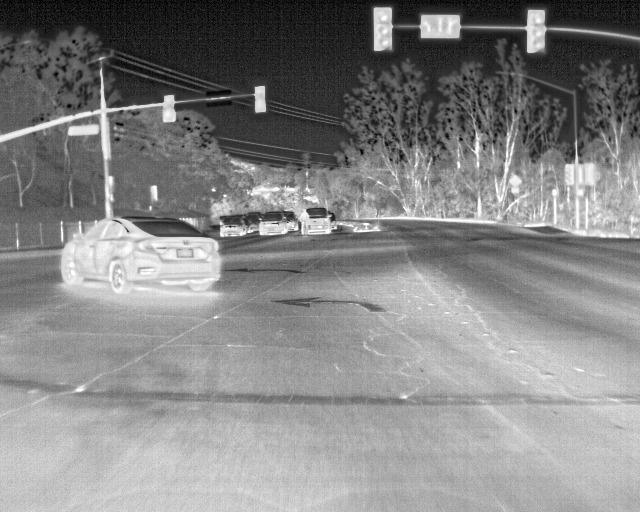car: (59, 214, 221, 293), (302, 209, 331, 235), (219, 213, 249, 235), (261, 210, 287, 234), (246, 211, 263, 229), (287, 213, 300, 232)
